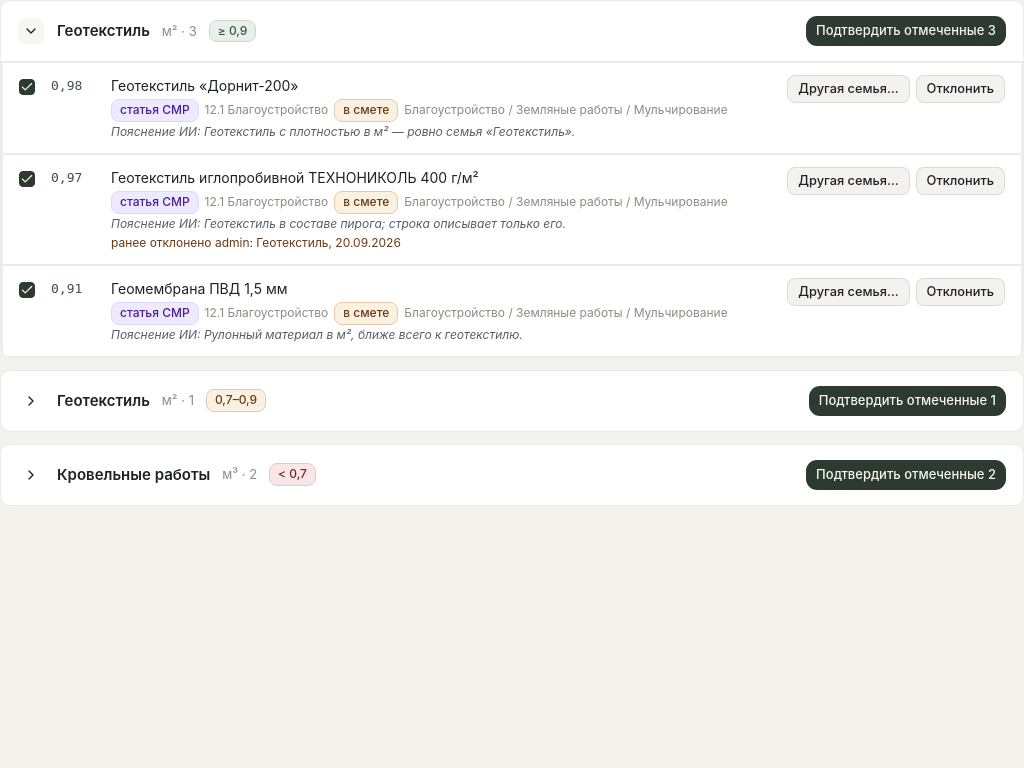
SuggestionGroups — отметки и «Подтвердить отмеченные N» › пропущенные сервером показаны сообщением с числом
Click the button "Подтвердить отмеченные 3".
click(906, 31)  # box [805,15,1007,47]
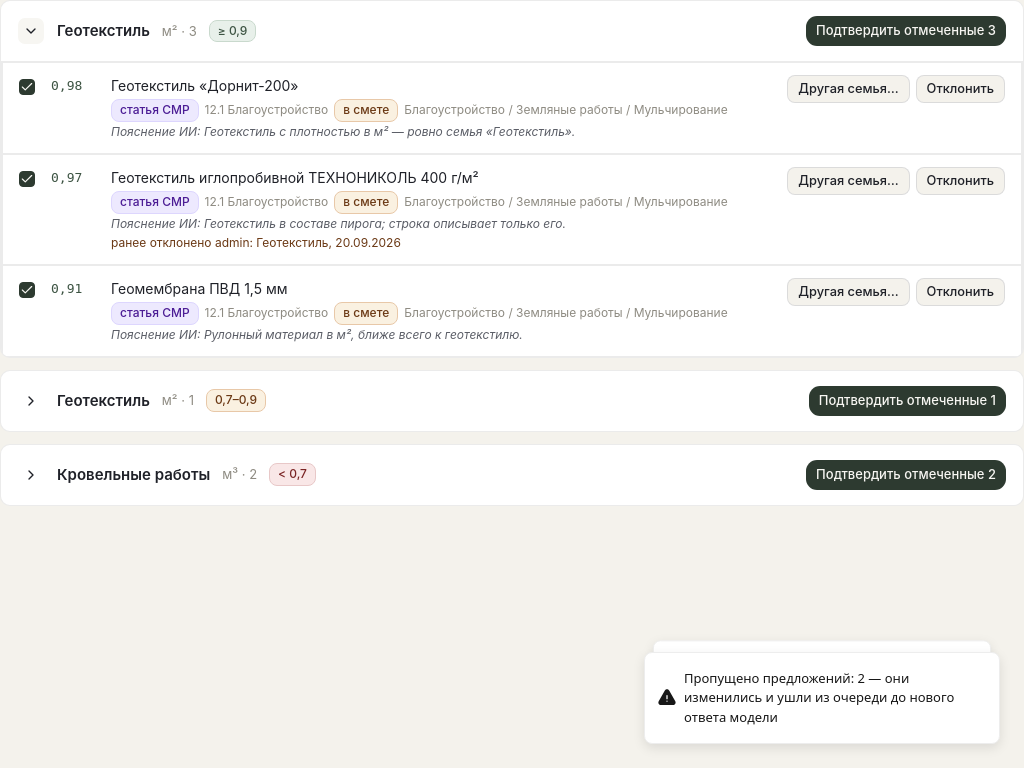
Now the text "Пропущено предложений: 2 — они изменились и ушли из очереди до нового ответа модели" is shown, box [684,668,954,726]
